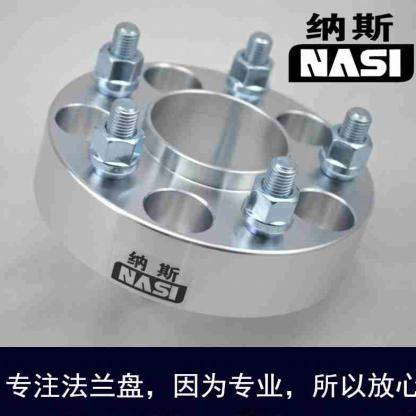FOD: (28, 61, 375, 323)
